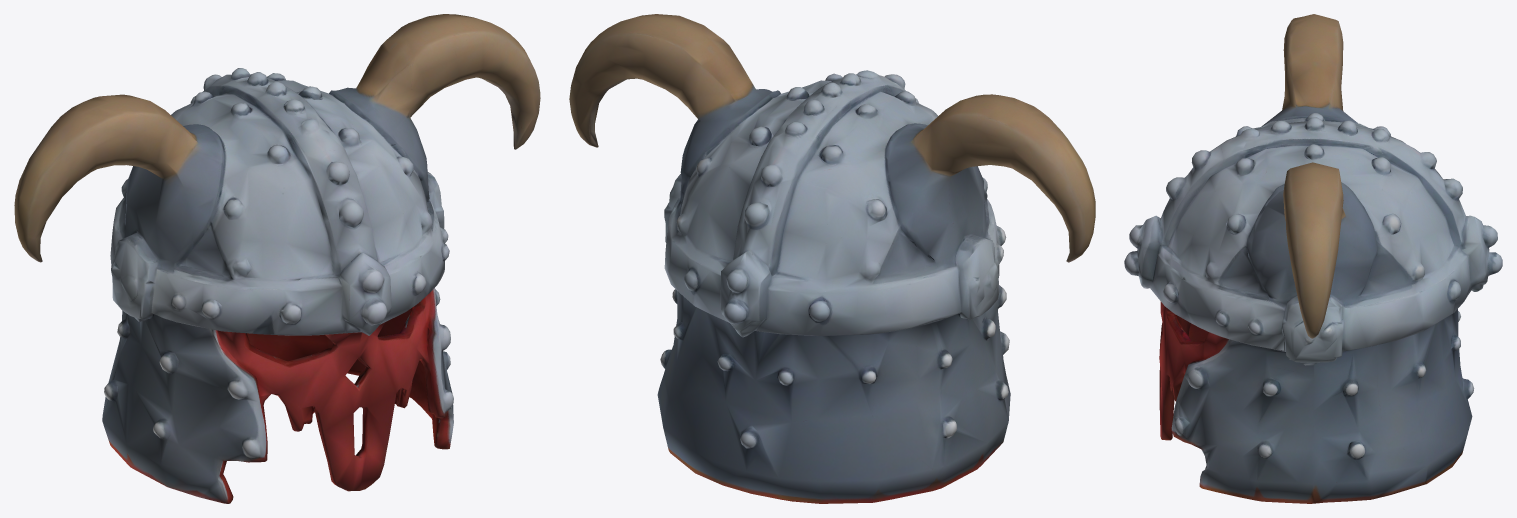
The model's file is viking_helm.glb.
The picture shows the model from 3 angles, left to right: view 1: azimuth 30°, elevation 25°; view 2: azimuth 150°, elevation 25°; view 3: azimuth 270°, elevation 25°; orthographic projection. The views are drawn at different scales.
Size of the model in its own units: 2 by 1.37 by 1.38.
Materials: 1 (1 with a texture image).
